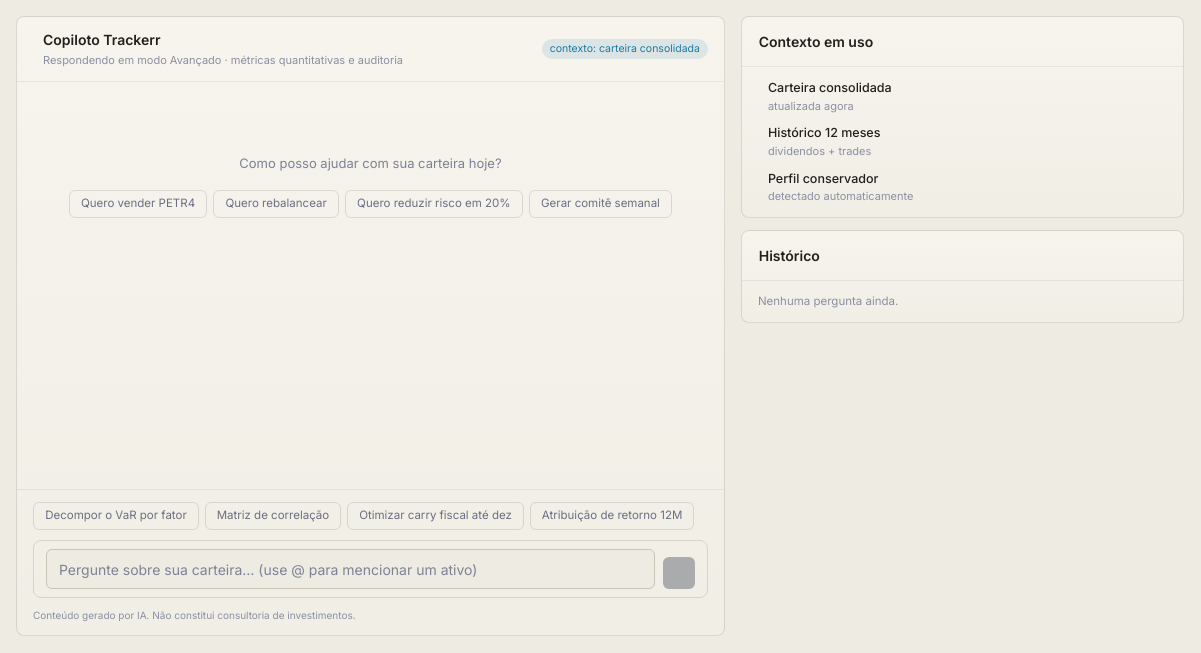
it: ChatInteligente › não mostra confiança em recusa honesta
This screenshot has width=1201, height=653.
Type "Decompor o VaR por fator" into the field at (350, 569), box 46,549 -> 655,589
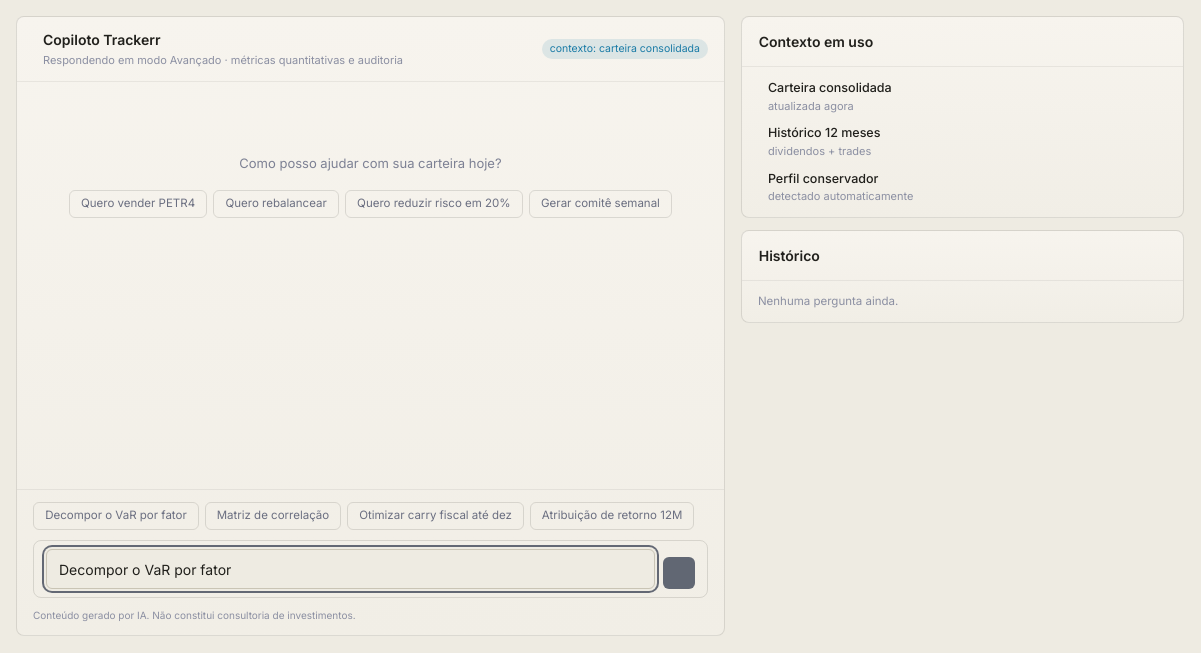
Click the button named "Enviar" at (679, 573), box 663,557 -> 695,589
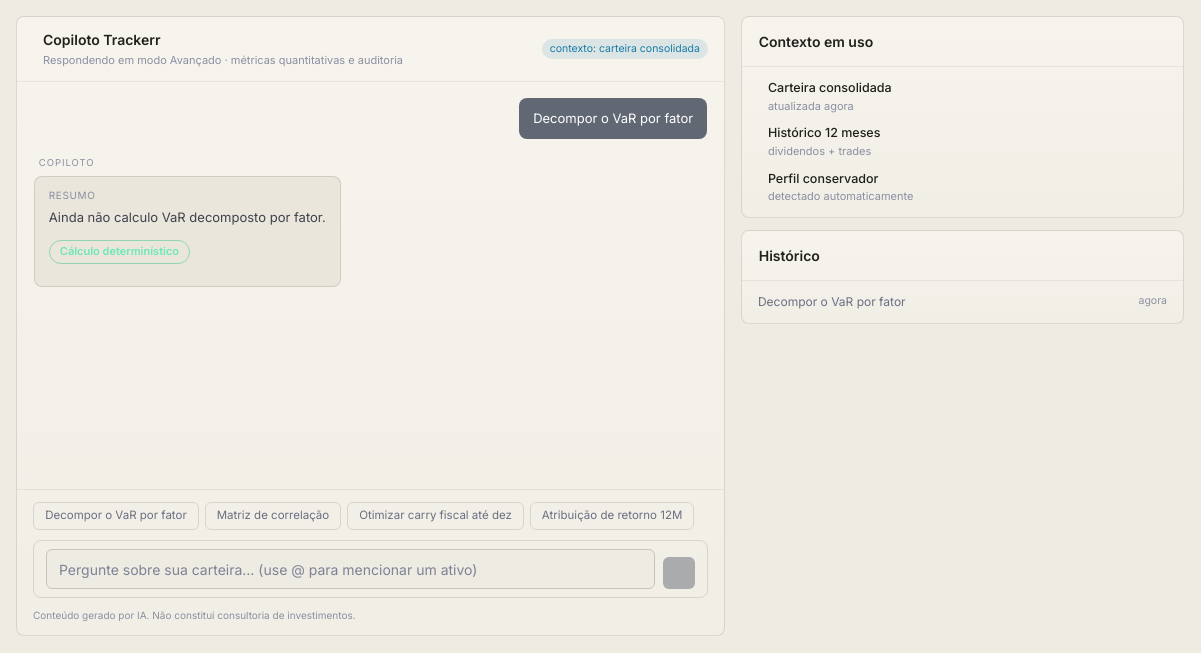
expect the text "Ainda não calculo VaR decomposto por fator." is shown: met, box 49,207 -> 326,228
